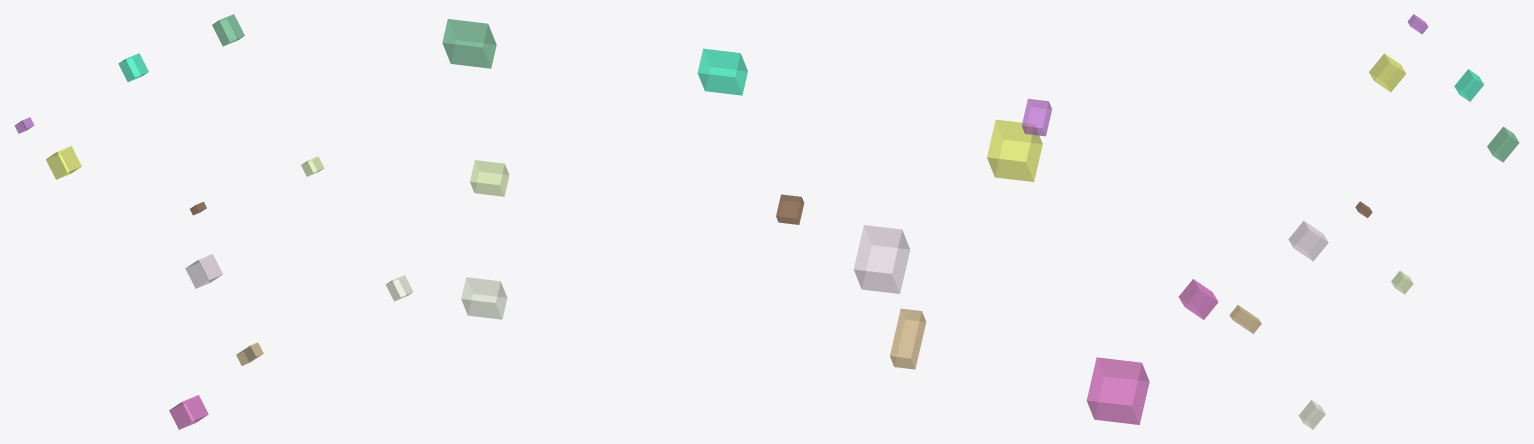
Rendered from batchedColorsTranslucent.glb.
3 views of the same model, side by side, from view 1: azimuth 30°, elevation 25°; view 2: azimuth 150°, elevation 25°; view 3: azimuth 270°, elevation 25° (orthographic). The views are drawn at different scales.
Bounding box in the file's own units: 200 × 145 × 161.
